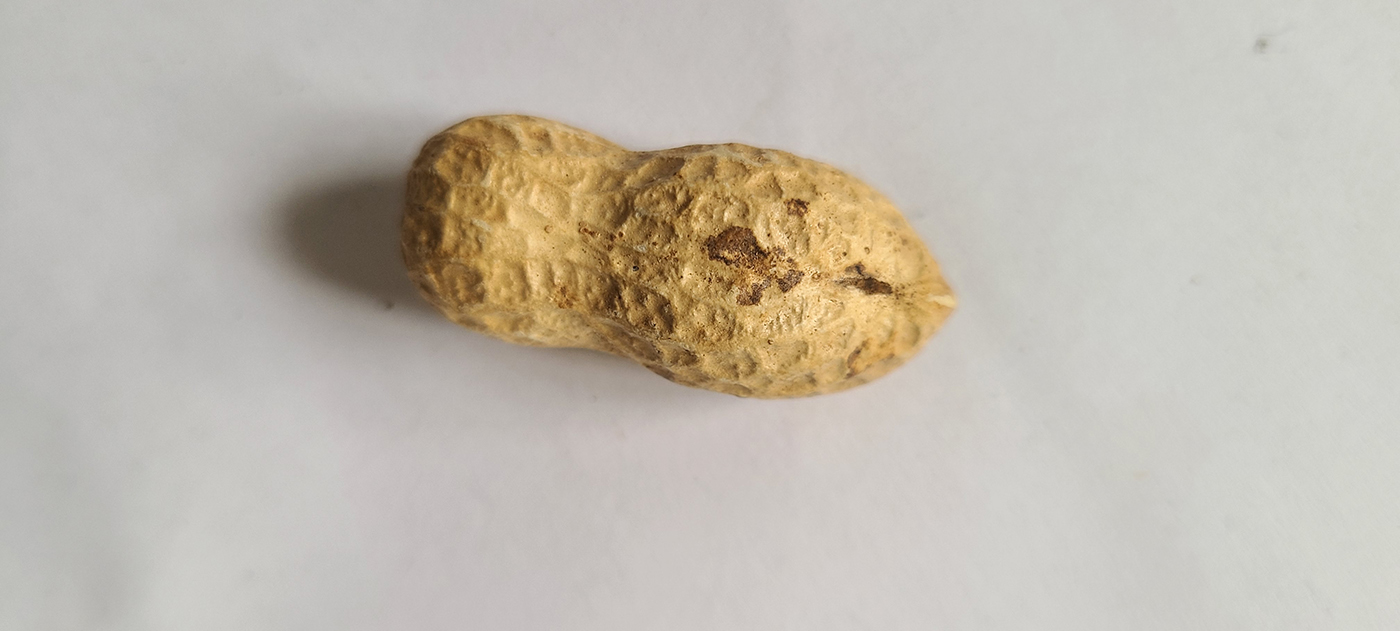h: (396, 109, 959, 401)
